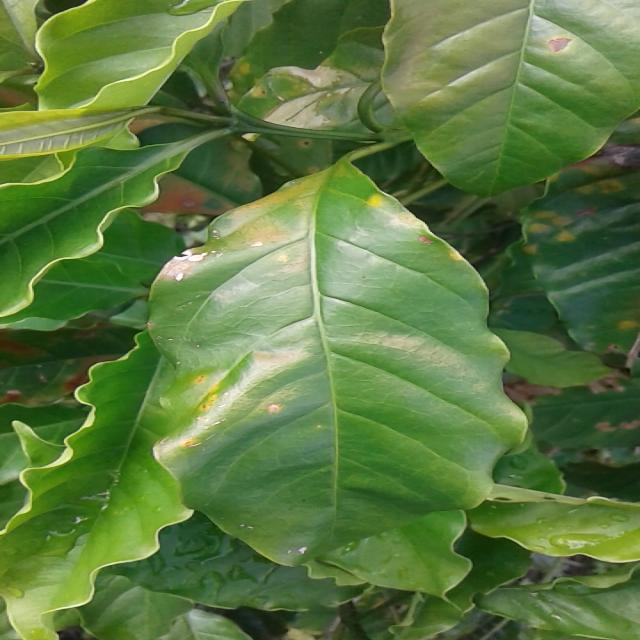Enfermedad-Roya: (140, 165, 530, 598)
